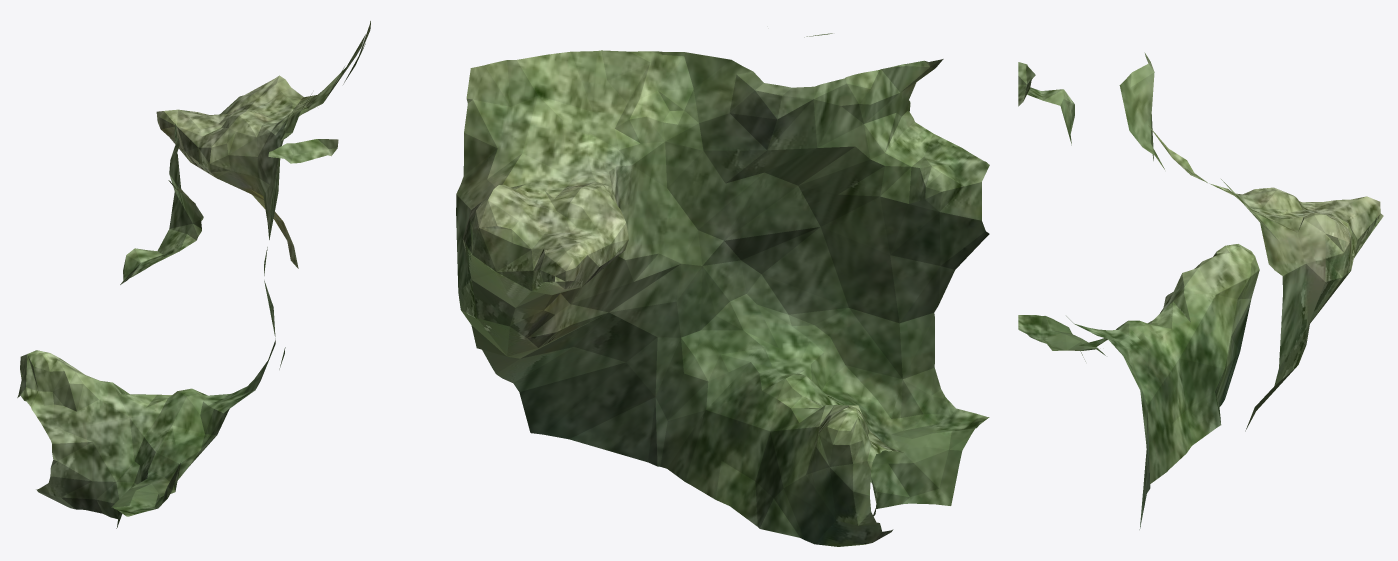
3 views of the same model, side by side, from view 1: azimuth 30°, elevation 25°; view 2: azimuth 150°, elevation 25°; view 3: azimuth 270°, elevation 25° (orthographic). The views are drawn at different scales.
Size of the model in its own units: 2.95 by 2.95 by 2.59.
4 materials, 4 textured.
